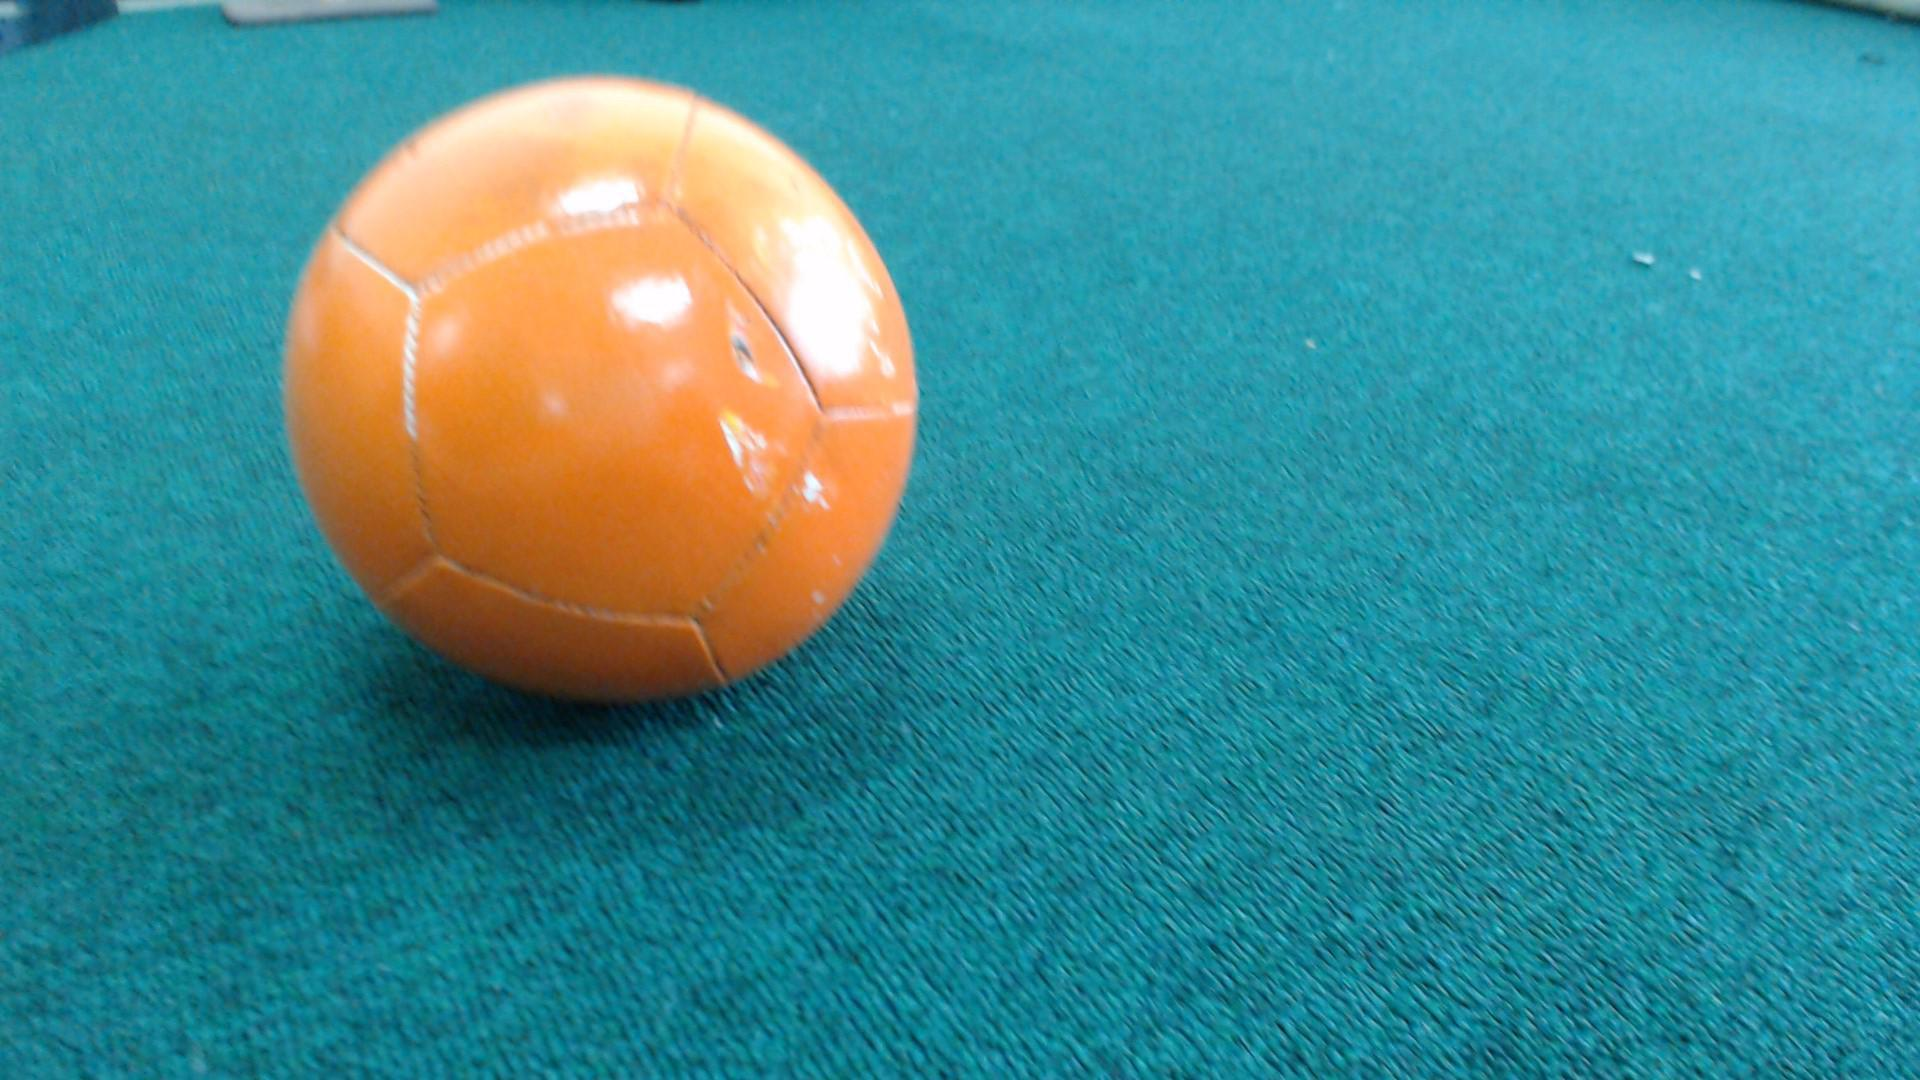bola: (257, 49, 960, 741)
